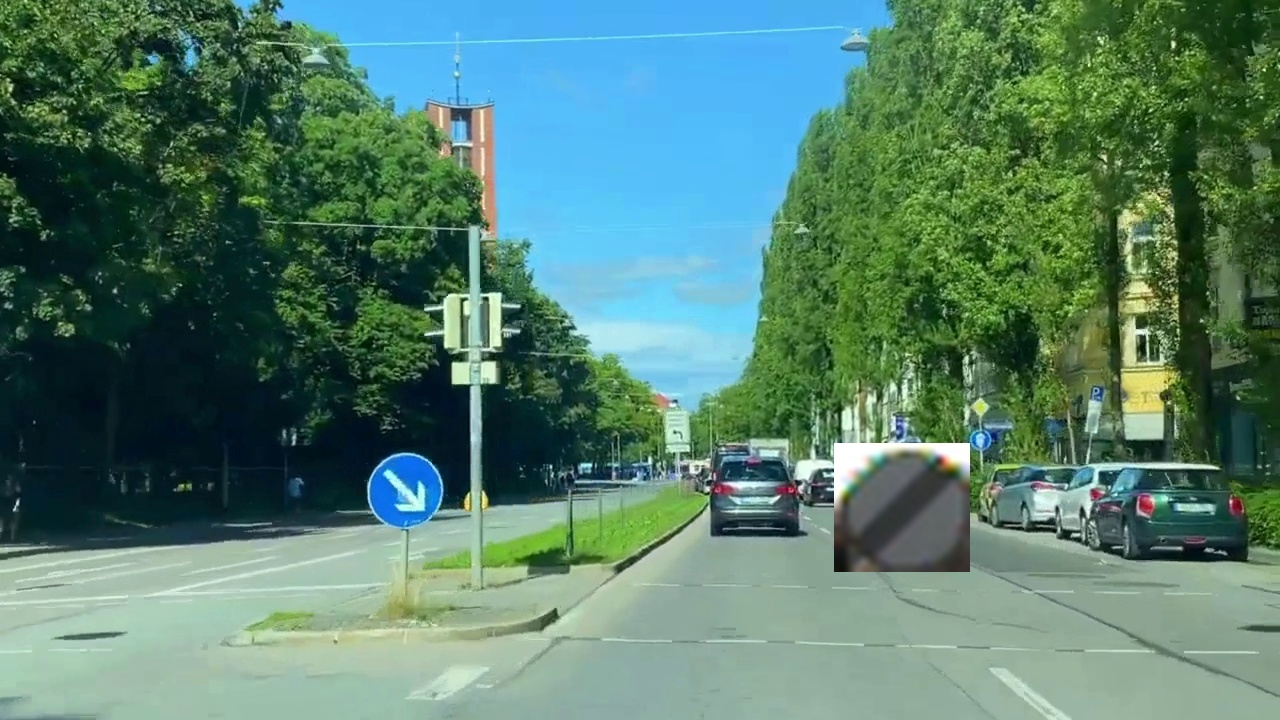End limits: (834, 443, 970, 572)
